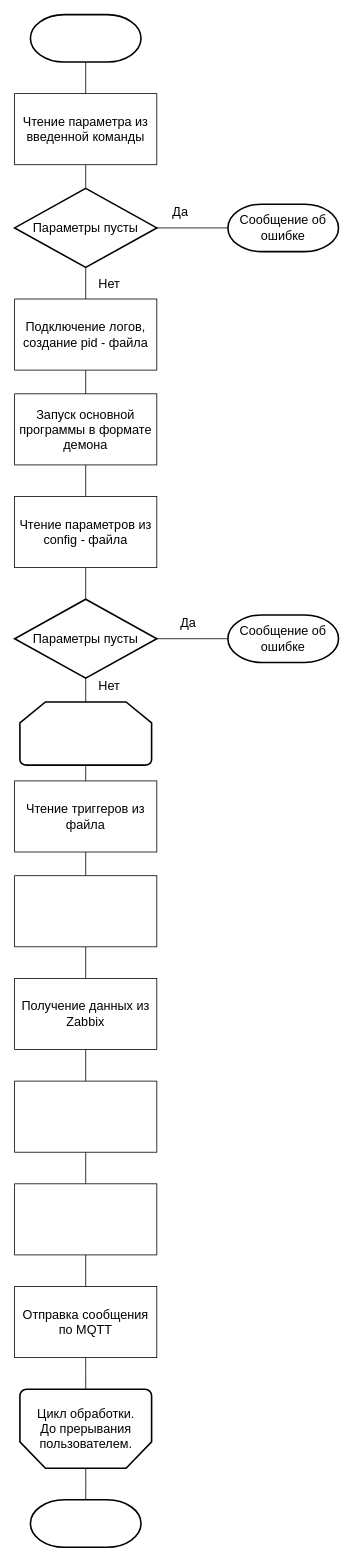
The diagram is 352 pixels wide and 1561 high, and some of its shapes have lost their labels. Here are the shapes that lost their labels. From the top down, the centre of each, then its label:
pixel 85 37: Запуск программы
pixel 85 733: Цикл обработки.
pixel 85 911: Подключение к Zabbix
pixel 85 1116: Формирование сообщения
pixel 85 1219: Отключение от Zabbix
pixel 85 1523: Выход из программы
